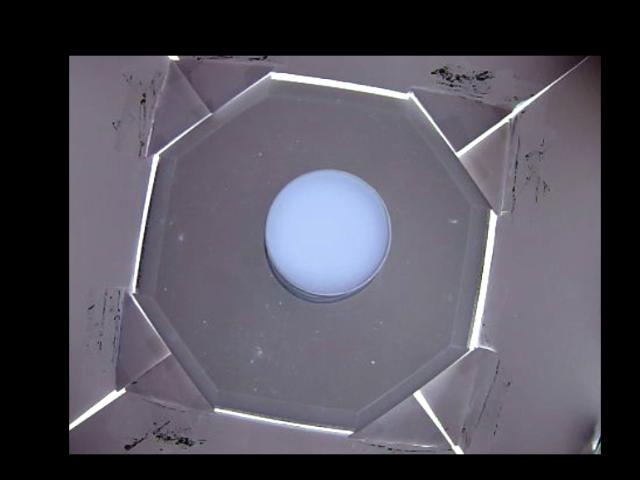Cup: (261, 166, 391, 300)
